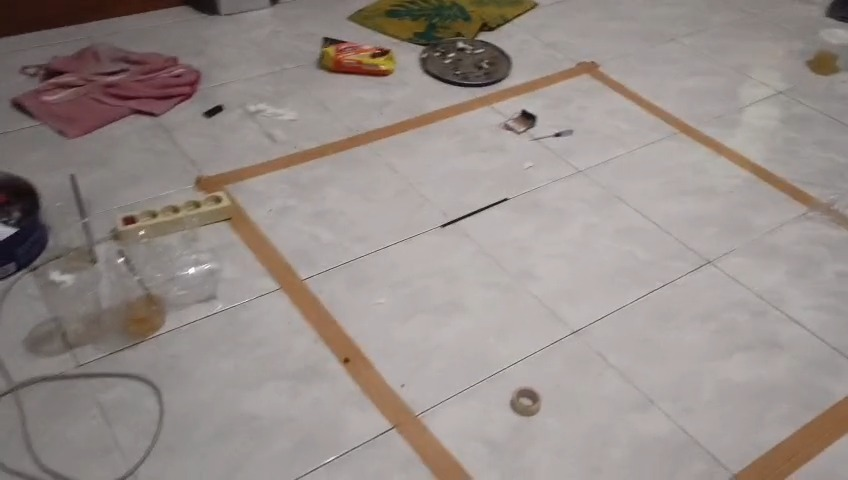floor marking: (196, 62, 847, 229), (231, 201, 469, 478), (735, 396, 847, 479)
